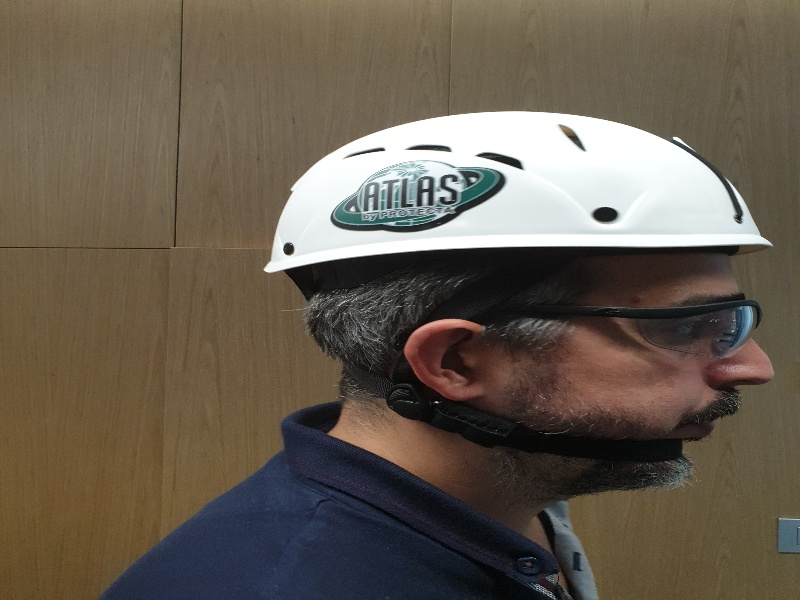Baret: (262, 109, 773, 258)
Gozluk: (504, 299, 763, 356)
